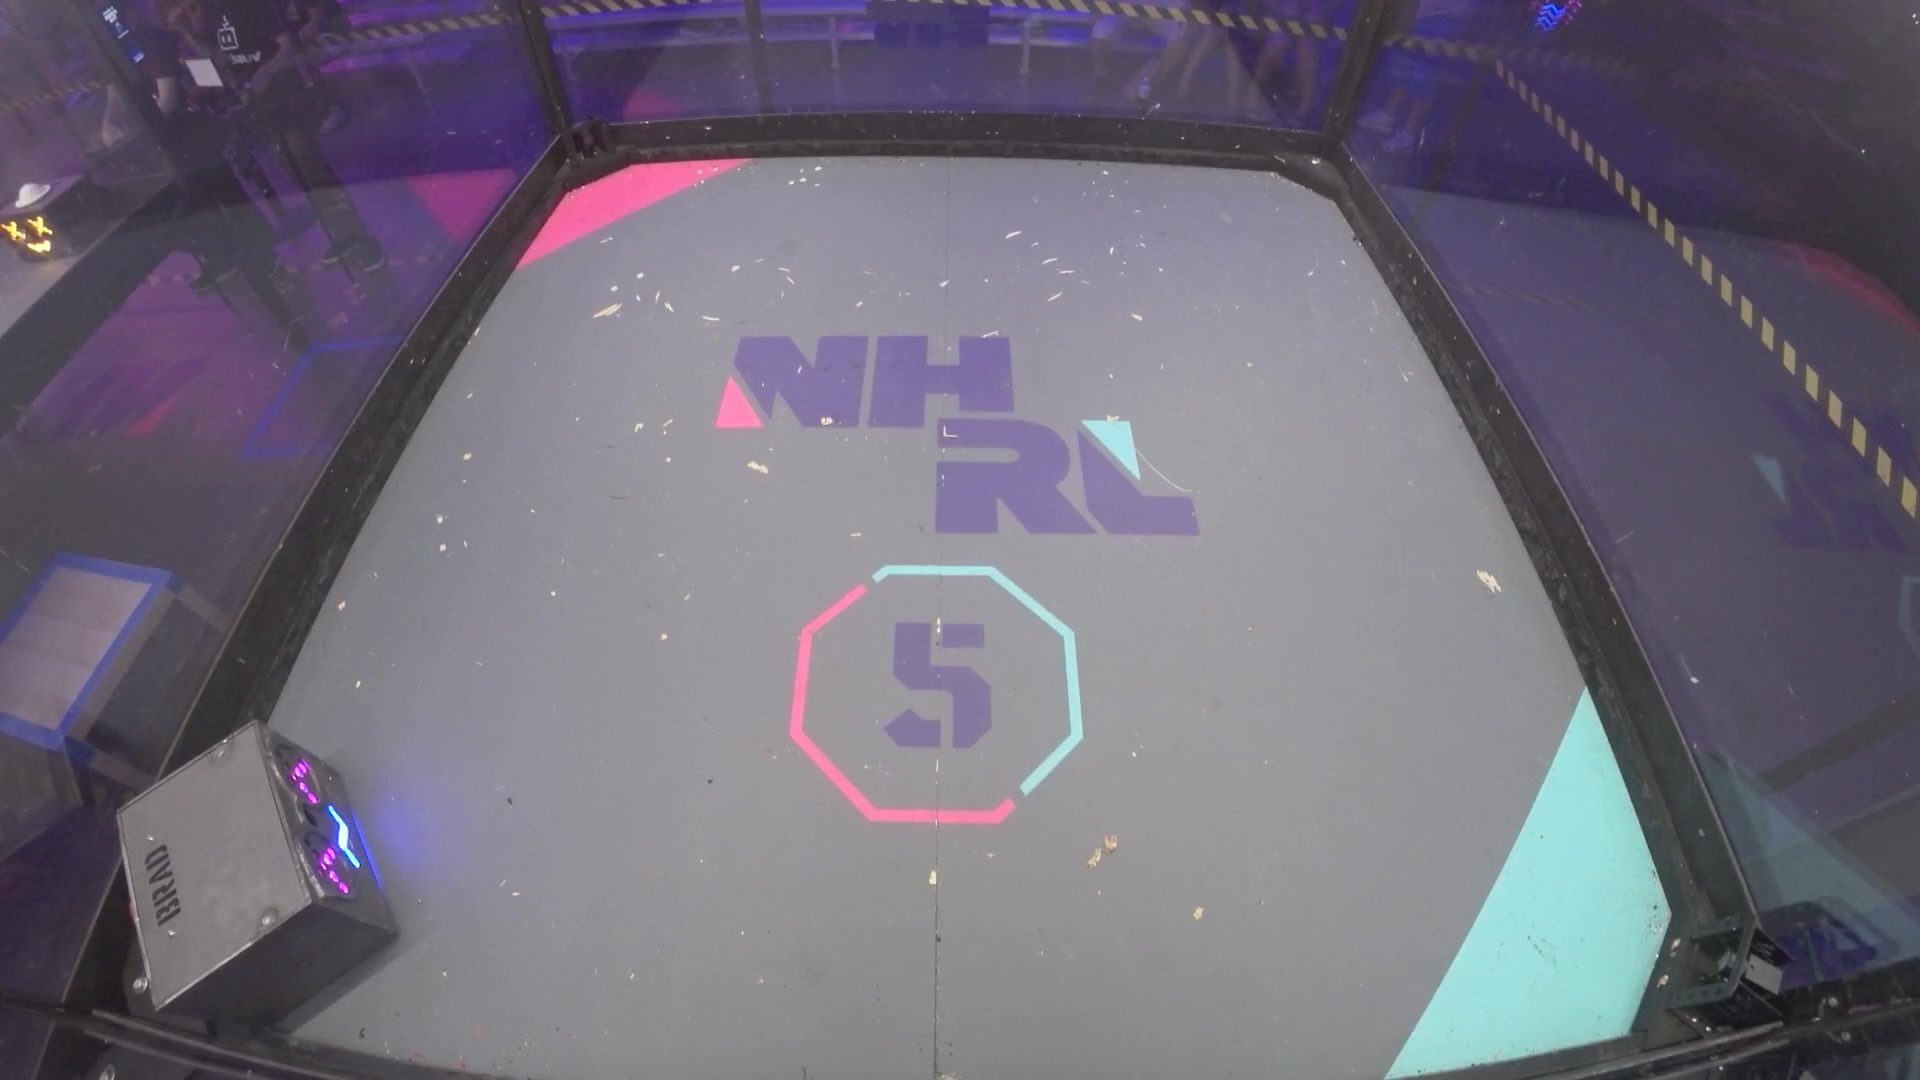housebot: (115, 719, 404, 1022)
